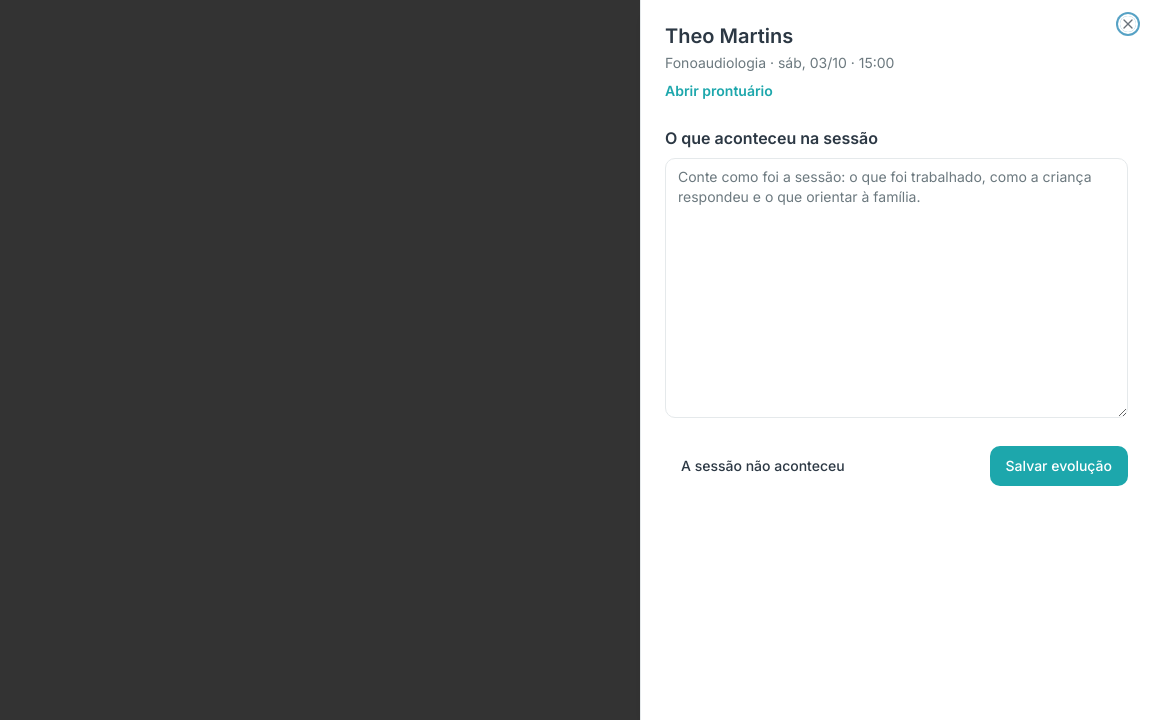
Test: sem texto, avisa e não salva
Click the button "Salvar evolução".
click(1059, 466)  # box [990,446,1128,486]
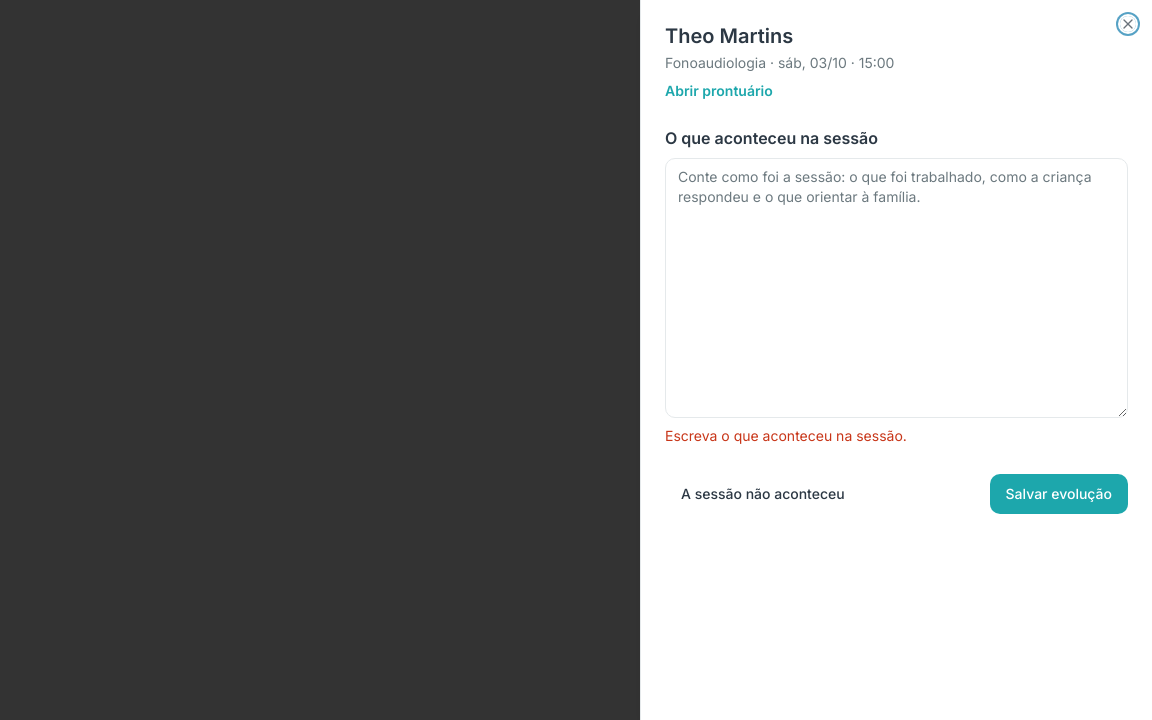
Check: the text "Escreva o que aconteceu na sessão." is shown, box [665,427,907,444]
